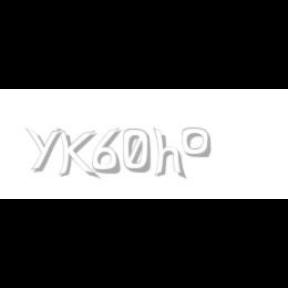0: (122, 128, 154, 174)
6: (92, 128, 120, 176)
K: (56, 128, 96, 180)
h: (154, 128, 188, 180)
o: (182, 128, 210, 158)
y: (25, 128, 65, 172)
